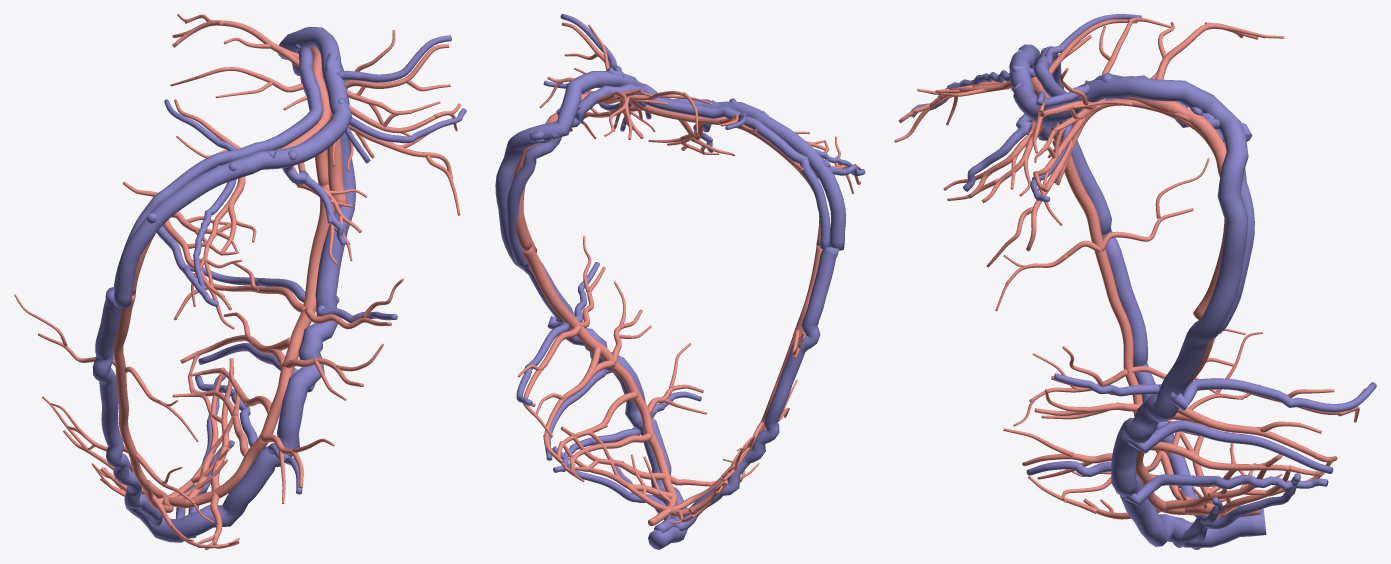
Rendered from vessels_73.glb.
3 renders of one model, left to right at view 1: azimuth 30°, elevation 25°; view 2: azimuth 150°, elevation 25°; view 3: azimuth 270°, elevation 25°, orthographic. The views are drawn at different scales.
Parts seen in each view (by area): view 1: Renderer Node; view 2: Renderer Node; view 3: Renderer Node.
Part boxes in pixels (box(x1,y1,x2,y2)): Renderer Node: box(14, 14, 466, 549); Renderer Node: box(495, 14, 865, 549); Renderer Node: box(894, 14, 1376, 549).
Bounding box in the file's own units: 95.19 × 124 × 95.7.
